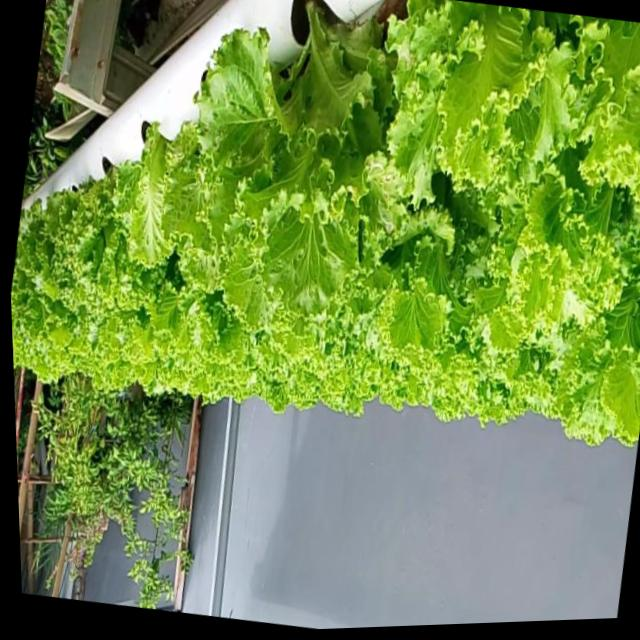Mature: (11, 0, 640, 446), (182, 0, 413, 319), (55, 156, 166, 315)
